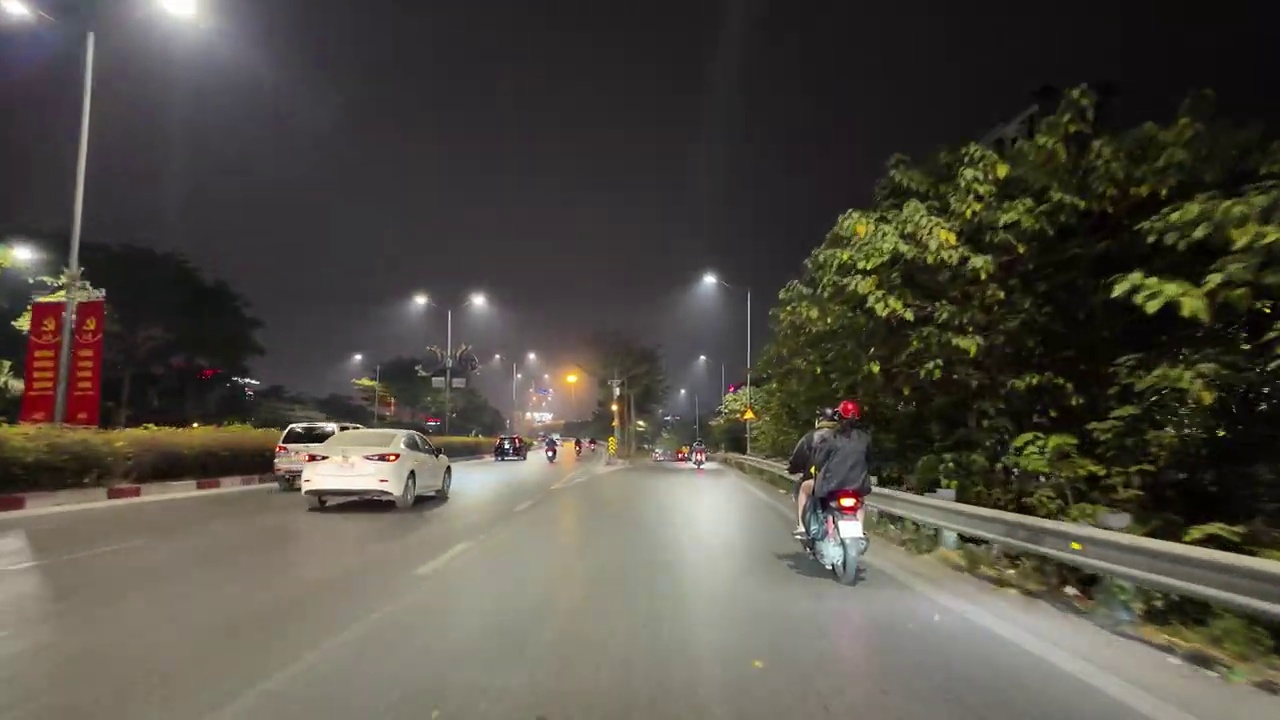acesa: (152, 0, 207, 29), (689, 269, 724, 306), (1, 240, 38, 270), (1, 0, 40, 28), (465, 290, 493, 318), (558, 367, 587, 394), (405, 289, 432, 316), (689, 352, 710, 374)
